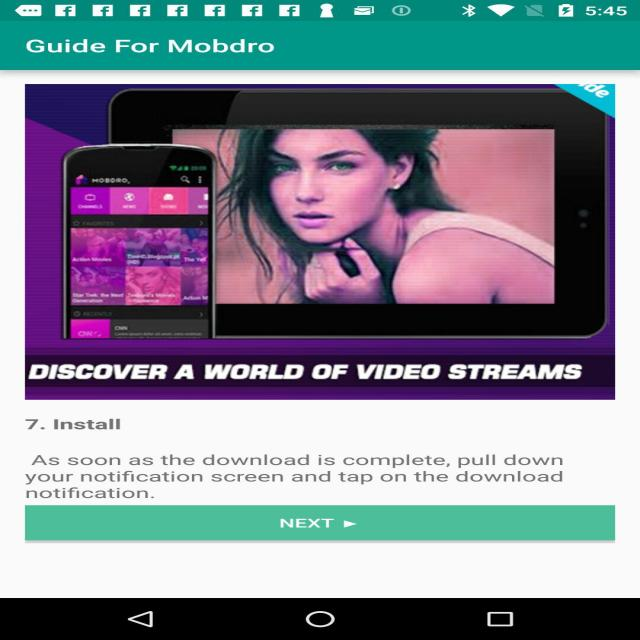button: (24, 506, 608, 540)
image: (21, 80, 609, 402)
text: (18, 449, 566, 503), (18, 30, 287, 60), (20, 414, 151, 434), (273, 512, 372, 534)
